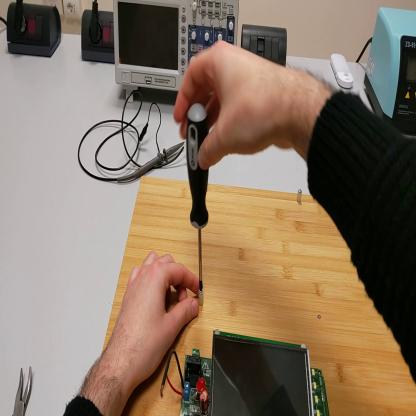hand: (173, 37, 288, 172), (113, 250, 202, 385)
low voltage board: (162, 333, 330, 415)
oscilloscope: (114, 2, 241, 101)
oscilloscope probe tip: (118, 142, 186, 184)
pliers: (14, 367, 34, 414)
screwdriver-: (186, 106, 212, 291)
socket: (7, 3, 64, 61), (81, 11, 115, 66)
welder station: (366, 8, 416, 134)
working area: (103, 177, 416, 416)
